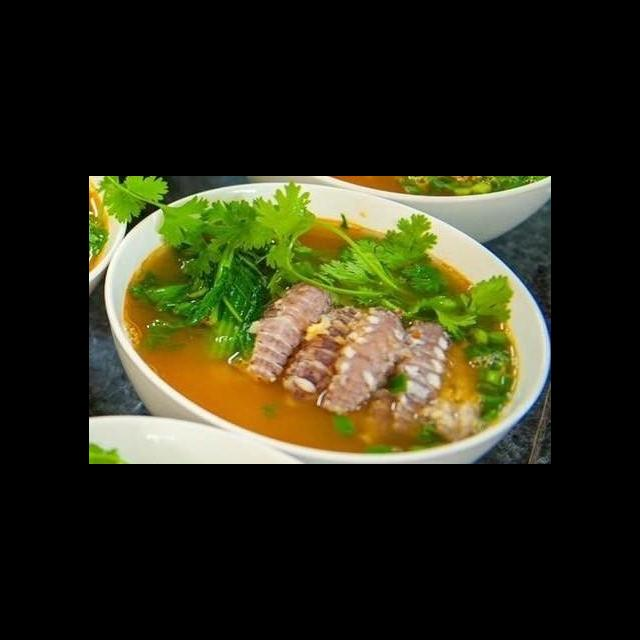tom tit: (315, 302, 412, 418), (240, 276, 339, 389), (275, 302, 372, 409), (386, 312, 454, 441)
